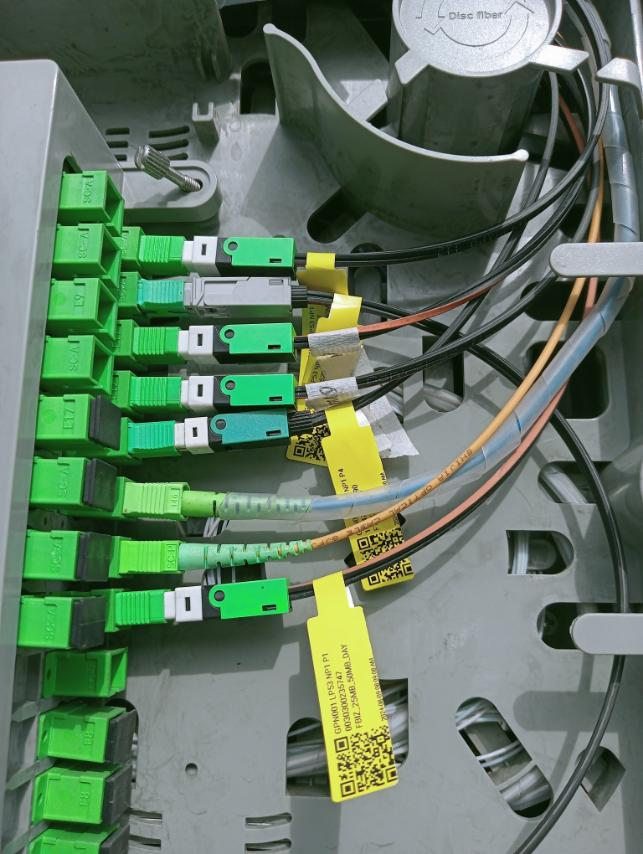no dust cap: (98, 225, 122, 288), (91, 337, 114, 394), (104, 171, 124, 236), (97, 280, 118, 340), (109, 647, 128, 696)
no port: (1, 779, 33, 853), (10, 651, 43, 715), (7, 717, 35, 783), (12, 847, 25, 854)
occupied: (122, 398, 330, 455), (114, 571, 325, 626), (121, 481, 334, 534), (117, 530, 334, 580), (125, 367, 334, 411), (134, 274, 318, 315), (130, 323, 313, 362), (136, 234, 307, 268)
vacant: (86, 396, 121, 451), (82, 458, 117, 512), (73, 597, 106, 653), (75, 533, 112, 582), (106, 763, 133, 826), (111, 709, 136, 766), (104, 822, 131, 854)
